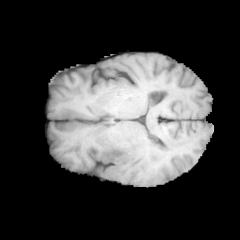glioma: (98, 139, 163, 185)
